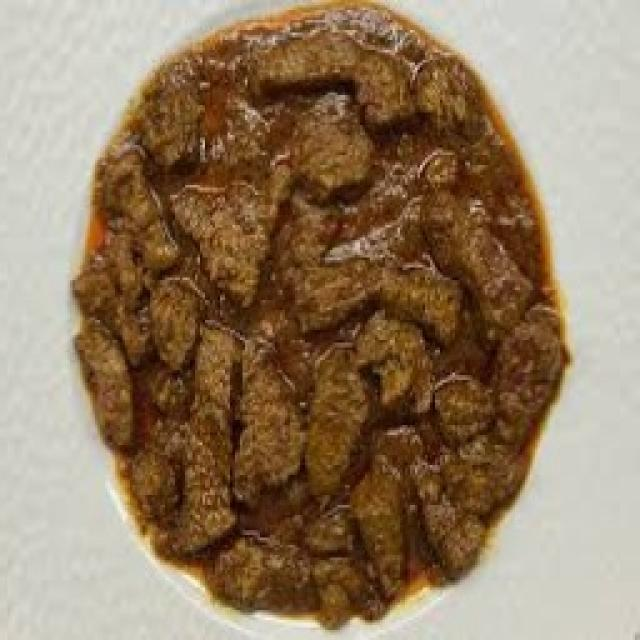Kamouniya: (74, 0, 569, 627)
